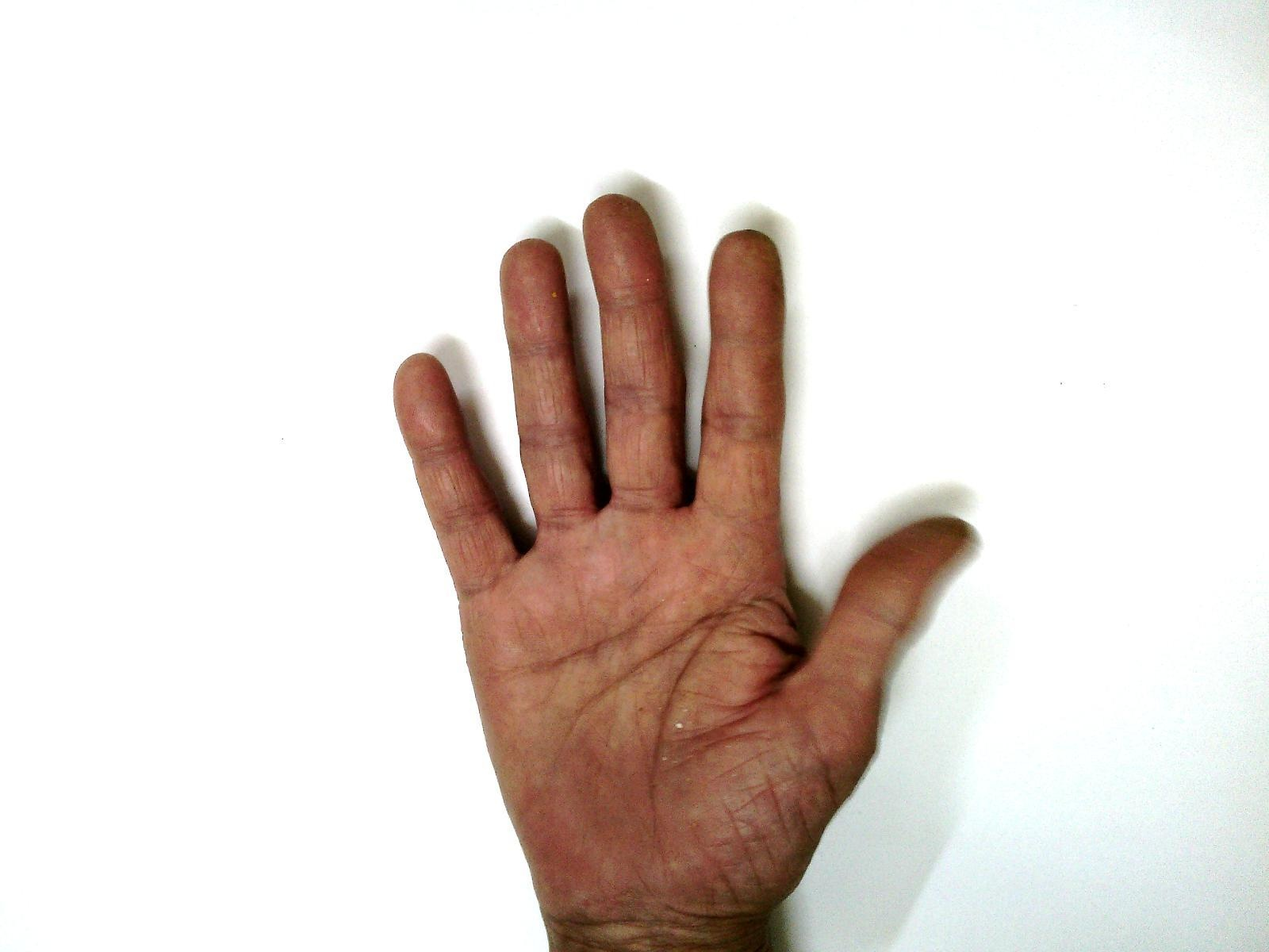open_palm: (389, 191, 985, 924)
